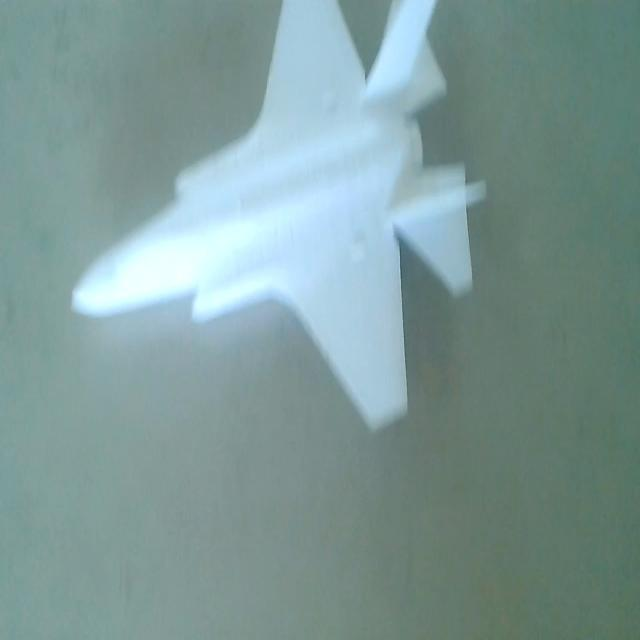Jet: (68, 0, 492, 440)
